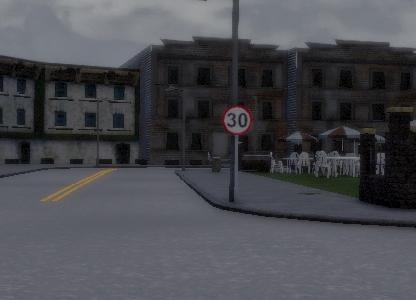Speed_30: (219, 104, 254, 138)
